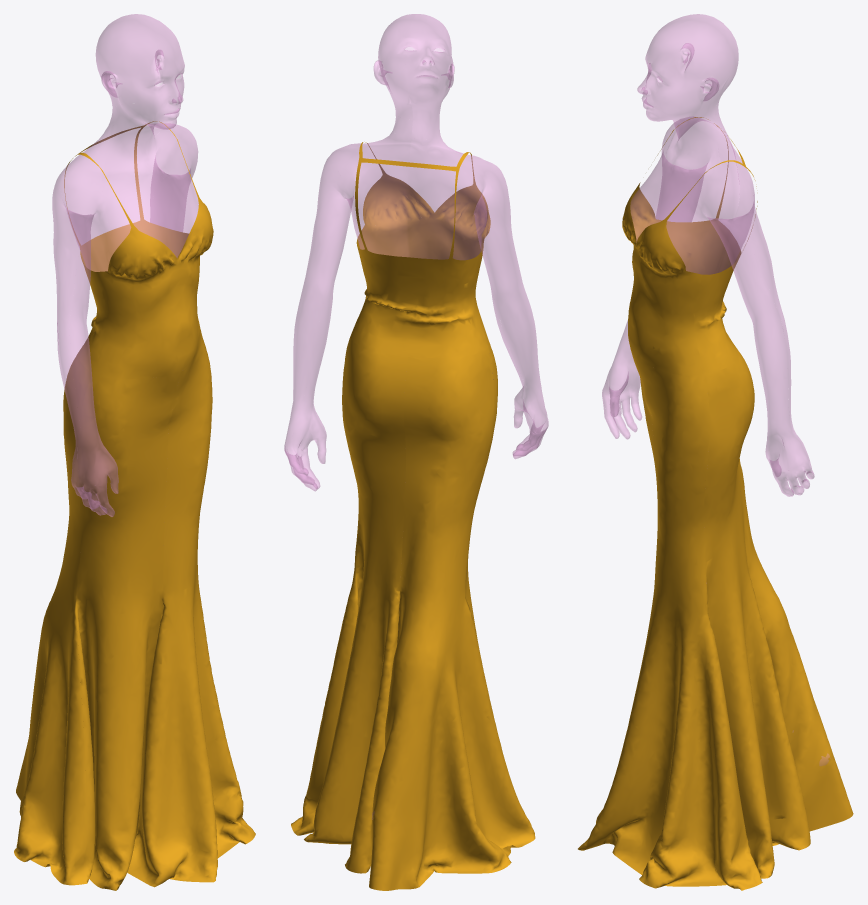
Rendered from untitledb.glb.
3 views of the same model, side by side, from view 1: azimuth 30°, elevation 25°; view 2: azimuth 150°, elevation 25°; view 3: azimuth 270°, elevation 25° (orthographic).
Visible parts, largest first — view 1: uploads_files_897731_Woman+lavender+gown.001, uploads_files_897731_Woman+lavender+gown.003; view 2: uploads_files_897731_Woman+lavender+gown.001, uploads_files_897731_Woman+lavender+gown.003; view 3: uploads_files_897731_Woman+lavender+gown.001, uploads_files_897731_Woman+lavender+gown.003.
Boxes of the visible parts, <box> form: uploads_files_897731_Woman+lavender+gown.001: <box>14,121,255,890</box>; uploads_files_897731_Woman+lavender+gown.003: <box>52,14,198,516</box>; uploads_files_897731_Woman+lavender+gown.001: <box>291,142,535,890</box>; uploads_files_897731_Woman+lavender+gown.003: <box>284,14,548,819</box>; uploads_files_897731_Woman+lavender+gown.001: <box>578,117,853,890</box>; uploads_files_897731_Woman+lavender+gown.003: <box>602,14,830,765</box>.
Size of the model in its own units: 1.82 by 6.84 by 2.08.
